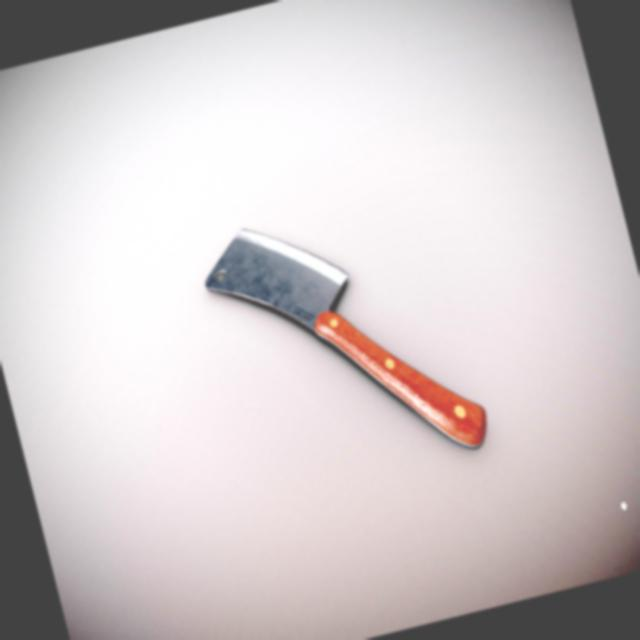cleaver: (191, 173, 497, 514)
